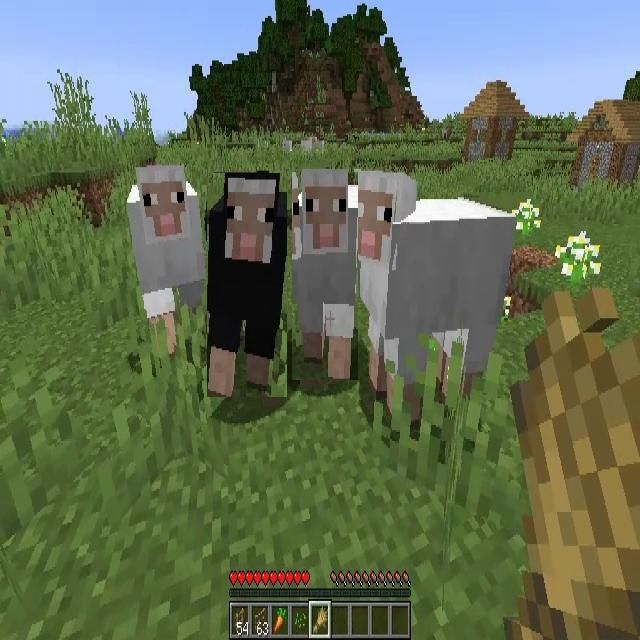flower: (556, 230, 602, 286), (512, 200, 542, 240)
sheep: (352, 173, 516, 419), (207, 173, 287, 397), (127, 167, 208, 351), (292, 172, 358, 380), (313, 136, 324, 155), (281, 137, 292, 153), (302, 139, 312, 153)
